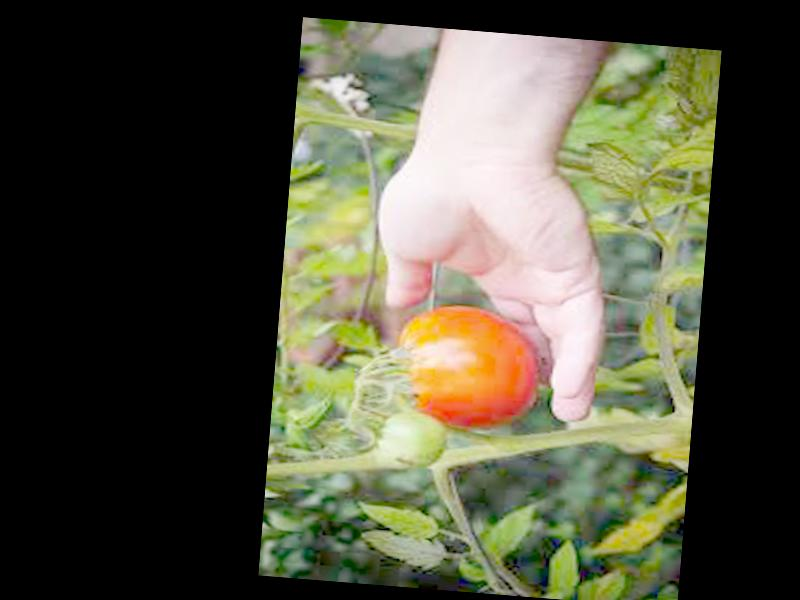Tomato: (388, 300, 543, 437)
